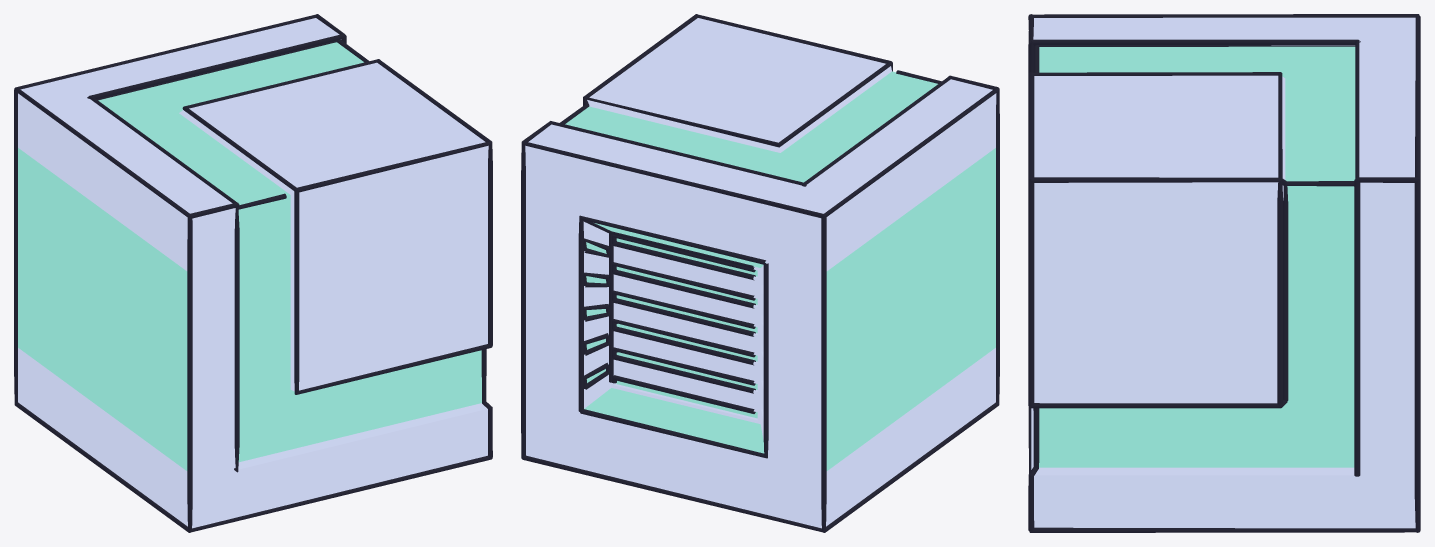
3 views of the same model, side by side, from view 1: azimuth 30°, elevation 25°; view 2: azimuth 150°, elevation 25°; view 3: azimuth 270°, elevation 25° (orthographic). The views are drawn at different scales.
Parts seen in each view (by area): view 1: Cube, LineArt, LineArt.001; view 2: Cube, LineArt.001, LineArt; view 3: Cube, LineArt, LineArt.001.
Boxes of the visible parts, x1,y1,x2,y2 form: Cube: [18, 18, 488, 528]; LineArt: [87, 14, 492, 472]; LineArt.001: [14, 14, 492, 532]; Cube: [525, 18, 996, 528]; LineArt.001: [521, 87, 999, 532]; LineArt: [523, 14, 997, 186]; Cube: [1031, 17, 1415, 528]; LineArt: [1028, 14, 1417, 531]; LineArt.001: [1028, 14, 1420, 532].
Size of the model in its own units: 20.3 by 20.3 by 20.3.
